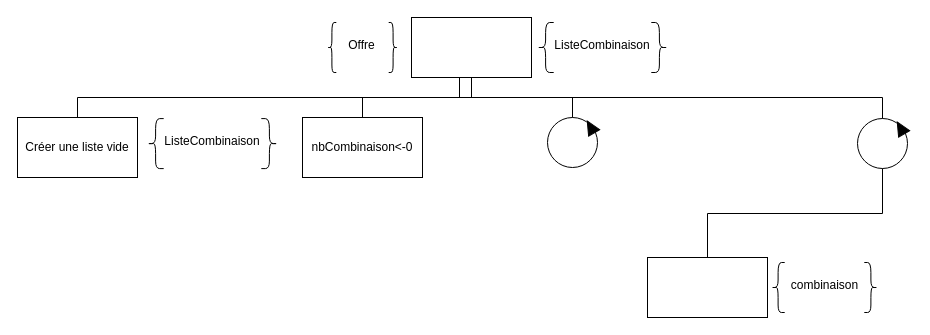
The diagram is 930 pixels wide and 335 high, and some of its shapes have lost their labels. The centre of each missing label's shape, as x and y in pixels:
"Créer Liste Des Combinaisons Jour" belongs at point 471,47.
"Créer une autre liste vide" belongs at point 707,287.
